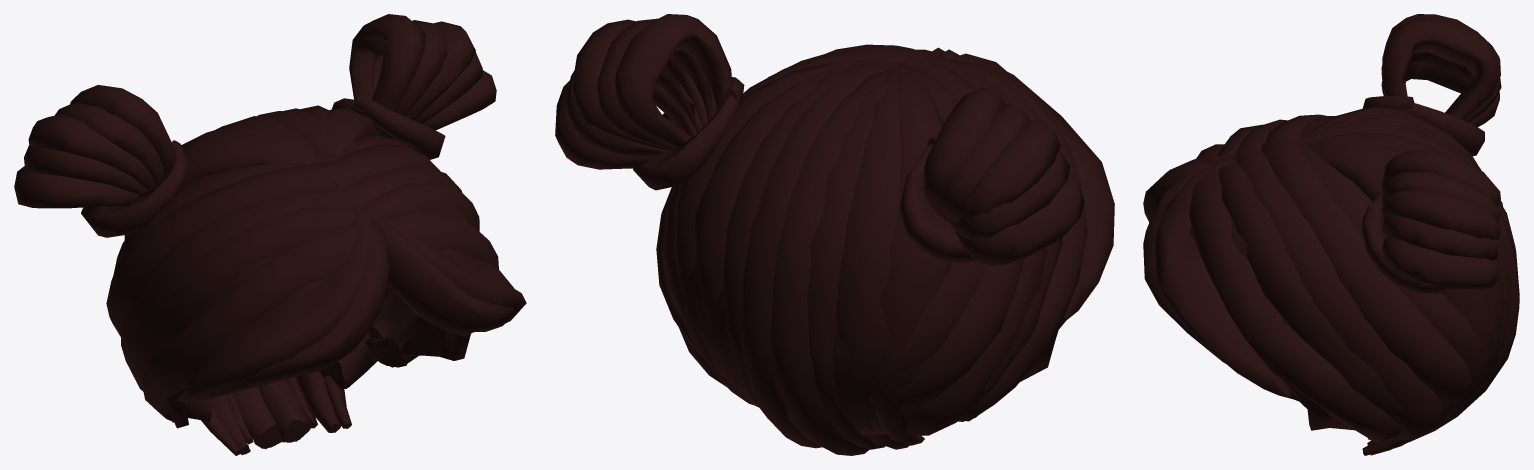
File: hair-5-ae7f21c3.glb
3 views of the same model, side by side, from view 1: azimuth 30°, elevation 25°; view 2: azimuth 150°, elevation 25°; view 3: azimuth 270°, elevation 25° (orthographic). The views are drawn at different scales.
Parts seen in each view (by area): view 1: hair_5.001; view 2: hair_5.001; view 3: hair_5.001.
Boxes of the visible parts, x1=… form: hair_5.001: x1=14, y1=14, x2=526, y2=455; hair_5.001: x1=555, y1=14, x2=1114, y2=455; hair_5.001: x1=1143, y1=14, x2=1519, y2=455.
Bounding box in the file's own units: 2.62 × 2.01 × 1.94.
